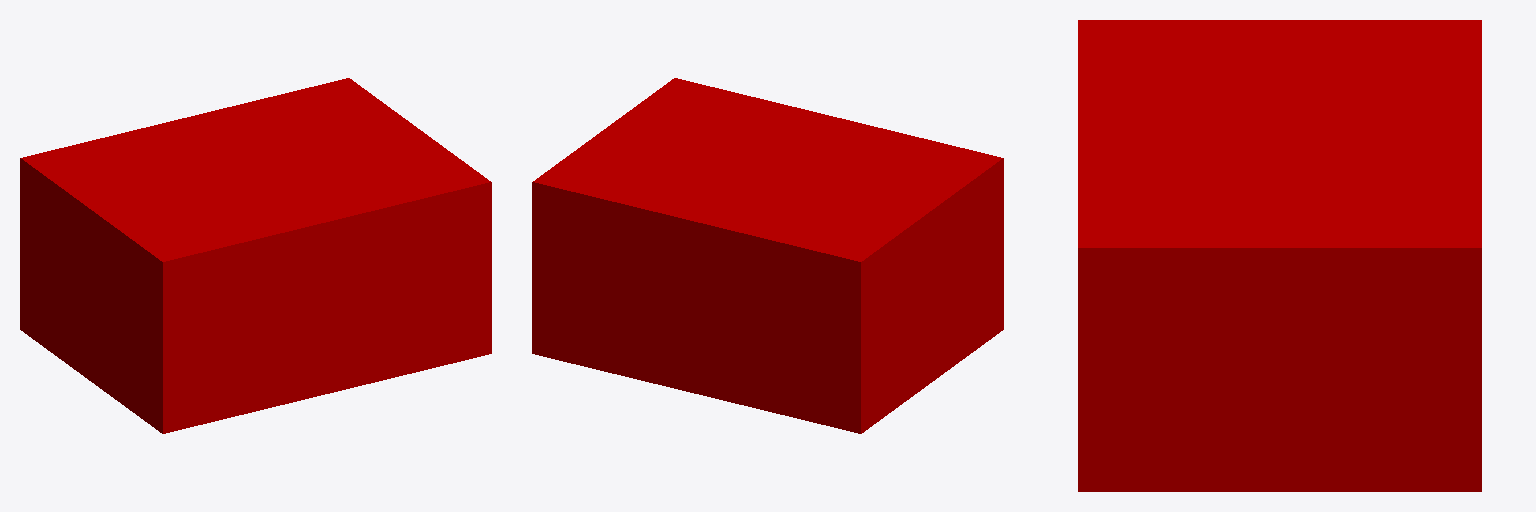
The robot description file, URDF, robot "simple_box":
<?xml version="1.0"?>
<robot name="simple_box">
  <link name="baseLink">
    <inertial>
      <origin xyz="2 1.5 1"/>
      <mass value="1" />
      <inertia  ixx="0.0001" ixy="0.0"  ixz="0.0"  iyy="0.0001"  iyz="0.0"  izz="0.0001" />
    </inertial>
    <visual>
      <origin xyz="2 1.5 1"/>
      <material name = 'r'>
        <color rgba="0.8 0 0 1"/>
      </material>
      <geometry>
        <box size="4 3 2"/>
      </geometry>
    </visual>
    <collision>
      <origin xyz="2 1.5 1"/>
      <geometry>
        <box size="4 3 2"/>
      </geometry>
    </collision>
  </link>
  <gazebo reference="baseLink">
    <material>Gazebo/red</material>
  </gazebo>
</robot>

--- Facts derived from the render (not from the file) ---
3 views of the same robot in one strip: view 1: azimuth 30°, elevation 25°; view 2: azimuth 150°, elevation 25°; view 3: azimuth 270°, elevation 25° (orthographic).
Model simple_box with 1 links and 0 joints (none), rooted at baseLink, posed all joints at 0.
Links seen in each view (by area): view 1: baseLink; view 2: baseLink; view 3: baseLink.
Link boxes in pixels (<box>): baseLink: <box>20,78,491,433</box>; baseLink: <box>532,78,1003,433</box>; baseLink: <box>1078,20,1481,491</box>.
Bounding box of the posed robot: 4 × 3 × 2 m (x, y, z).
Geometry: primitives only (box / cylinder / sphere), no mesh files.
